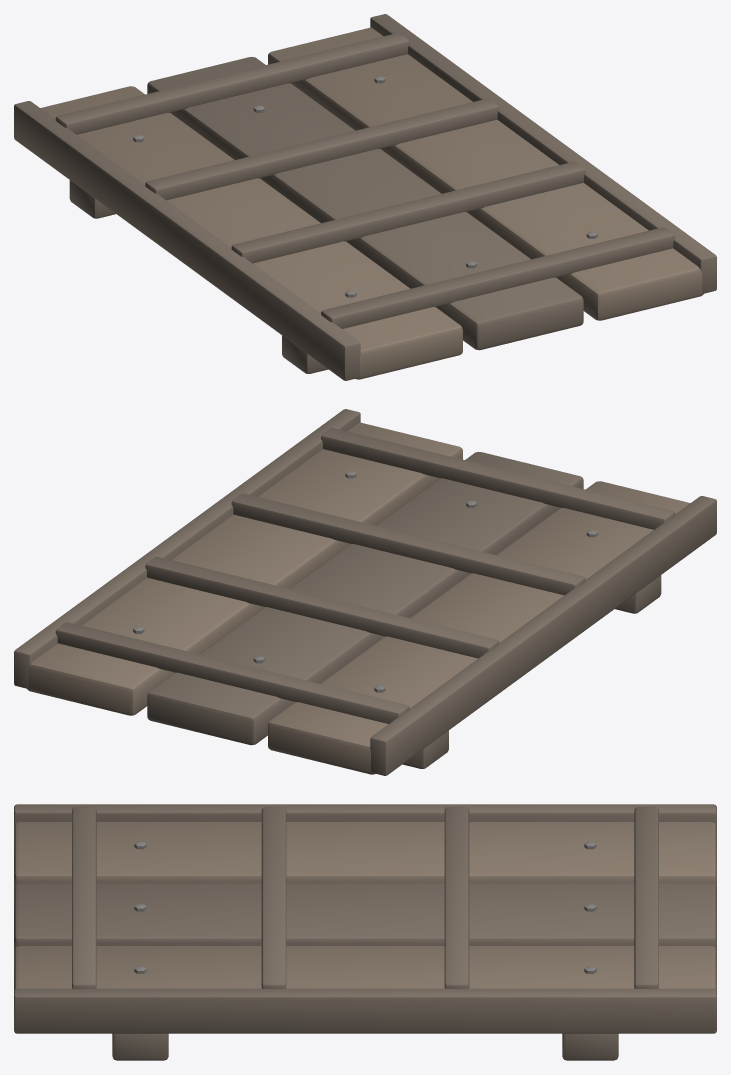
The model's file is boarding_plank.gltf.
3 renders of one model, top to bottom at view 1: azimuth 30°, elevation 25°; view 2: azimuth 150°, elevation 25°; view 3: azimuth 270°, elevation 25°, orthographic. The views are drawn at different scales.
Visible parts, largest first — view 1: Body; view 2: Body; view 3: Body.
Boxes of the visible parts, left/top/right/bottom form: Body: left=14, top=14, right=716, bottom=380; Body: left=14, top=409, right=716, bottom=775; Body: left=14, top=804, right=716, bottom=1060.
Bounding box in the file's own units: 0.65 × 0.1175 × 1.
